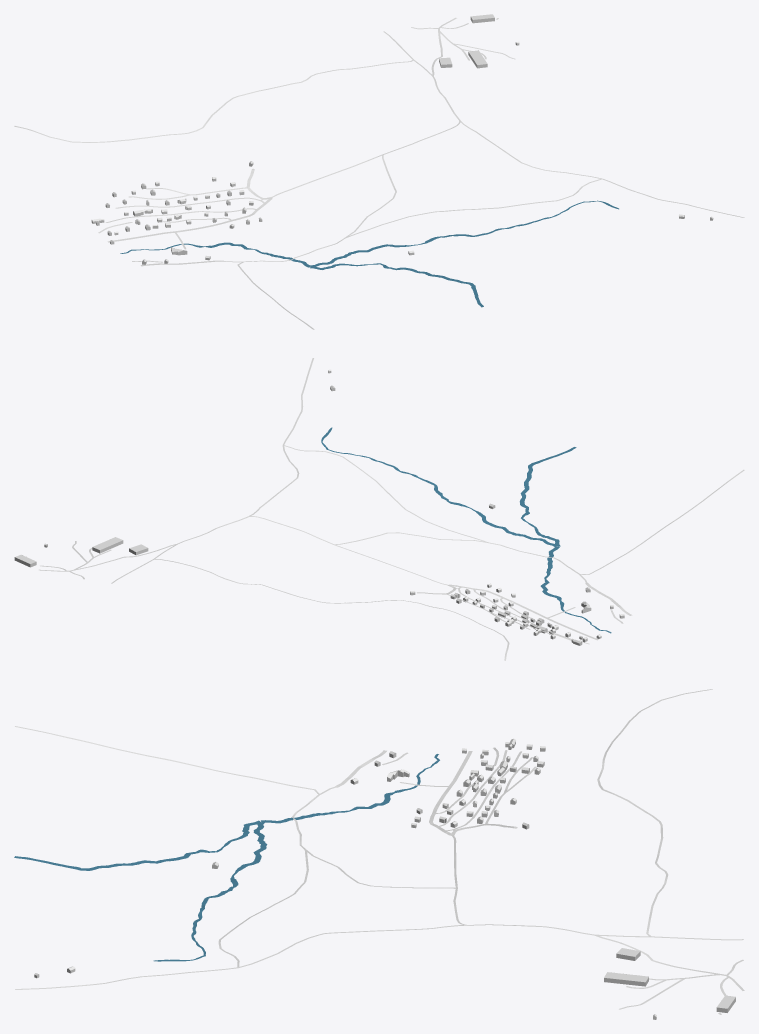
Rendered from objekty.glb.
3 renders of one model, top to bottom at view 1: azimuth 30°, elevation 25°; view 2: azimuth 150°, elevation 25°; view 3: azimuth 270°, elevation 25°, orthographic. The views are drawn at different scales.
Parts seen in each view (by area): view 1: Cesty_08_07, Budovy_08_07, Voda_08_07; view 2: Cesty_08_07, Budovy_08_07, Voda_08_07; view 3: Cesty_08_07, Budovy_08_07, Voda_08_07.
Part boxes in pixels (x1,y1,x2,y2): Cesty_08_07: (14, 17, 744, 329); Budovy_08_07: (91, 14, 713, 264); Voda_08_07: (120, 200, 618, 307); Cesty_08_07: (14, 358, 744, 660); Budovy_08_07: (14, 369, 624, 645); Voda_08_07: (321, 427, 611, 633); Cesty_08_07: (15, 689, 744, 1014); Budovy_08_07: (34, 738, 735, 1019); Voda_08_07: (14, 754, 439, 961).
Bounding box in the file's own units: 1005 × 99.78 × 1005.
